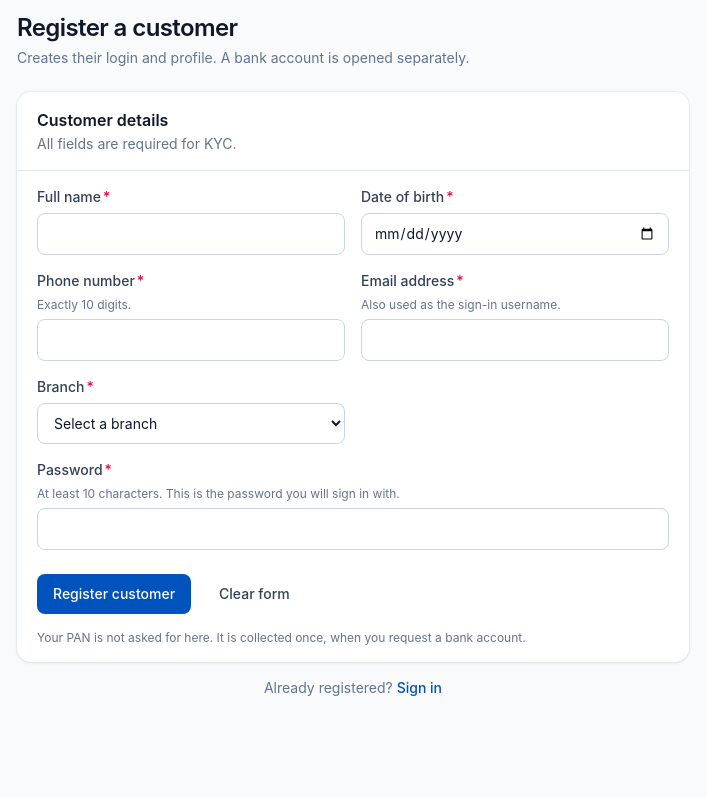
Test: RegisterPage › shows a violation on the profile object itself, which has no input
In the field labelled "Full name*": (191, 234) [37,213,345,255], type "Asha Rao"
In the date field labelled "Date of birth*": (515, 234) [361,213,669,255], type "1994-03-21"
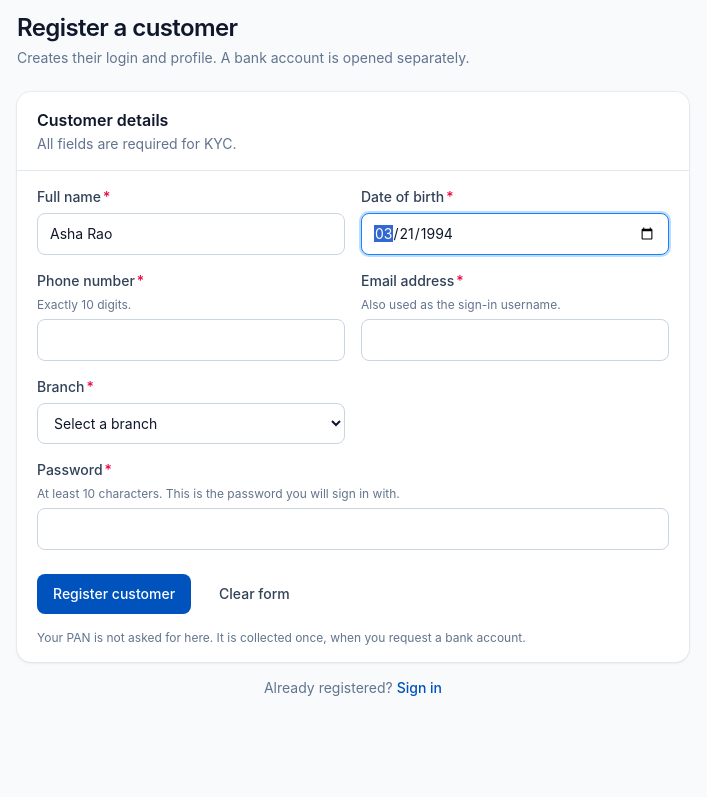
In the field labelled "Phone number*": (191, 340) [37,319,345,361], type "9876543210"
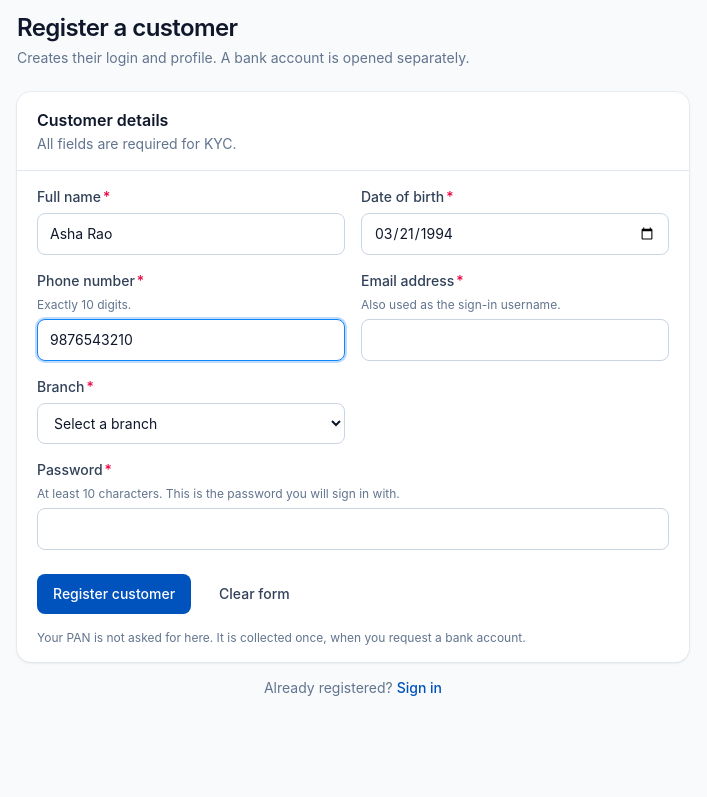
In the field labelled "Email address*": (515, 340) [361,319,669,361], type "asha.rao@example.com"
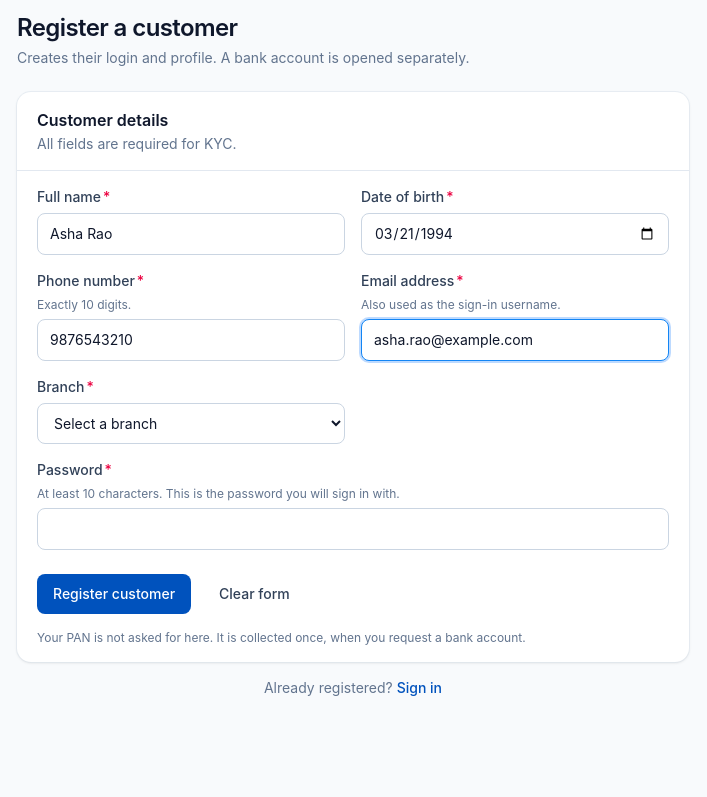
Select "101 - Main Street" in the dropdown labelled "Branch*": (191, 424) [37,403,345,444]
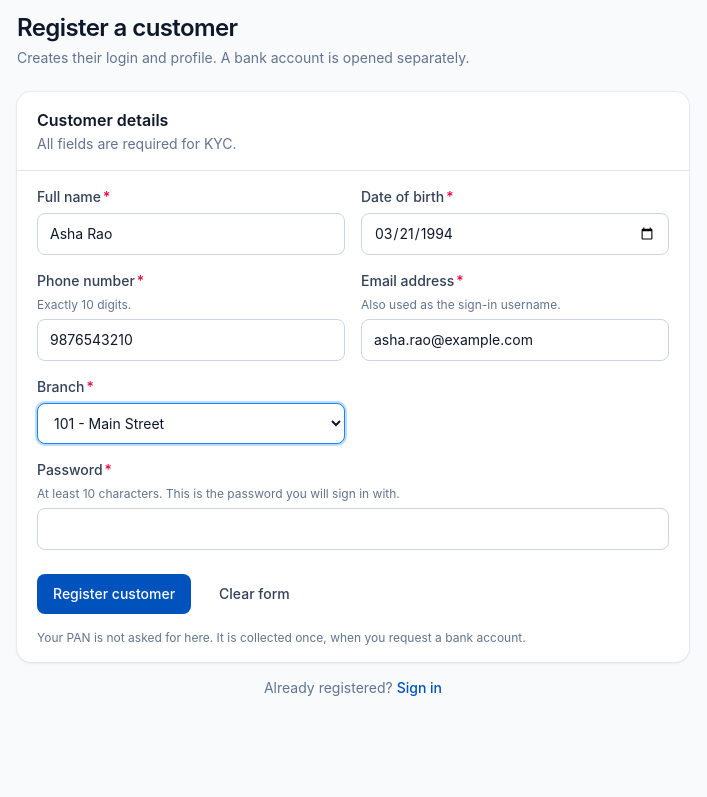
In the password field labelled "Password*": (353, 529) [37,508,669,550], type "correct-horse-battery"
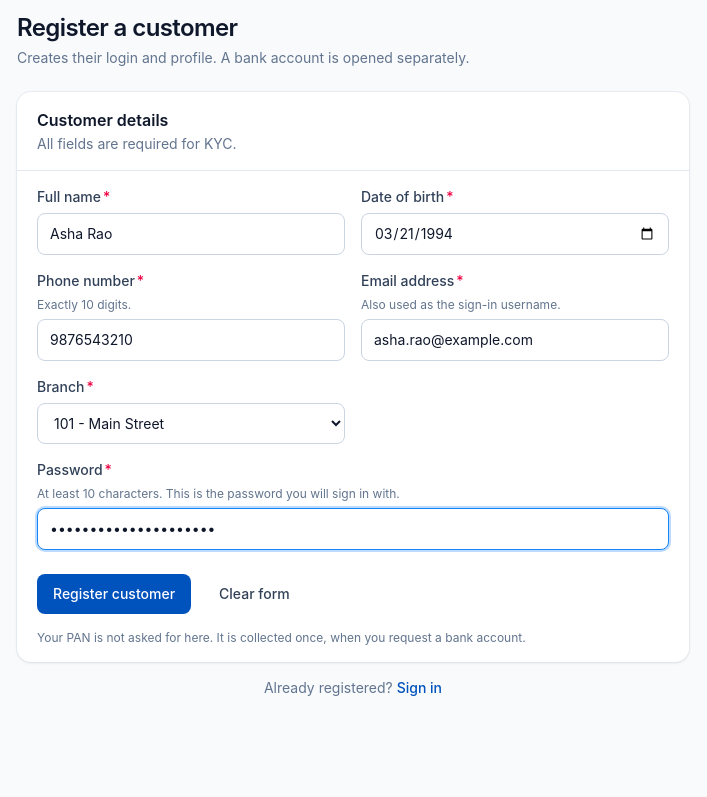
Click the button "Register customer": (114, 594) [37,574,191,614]
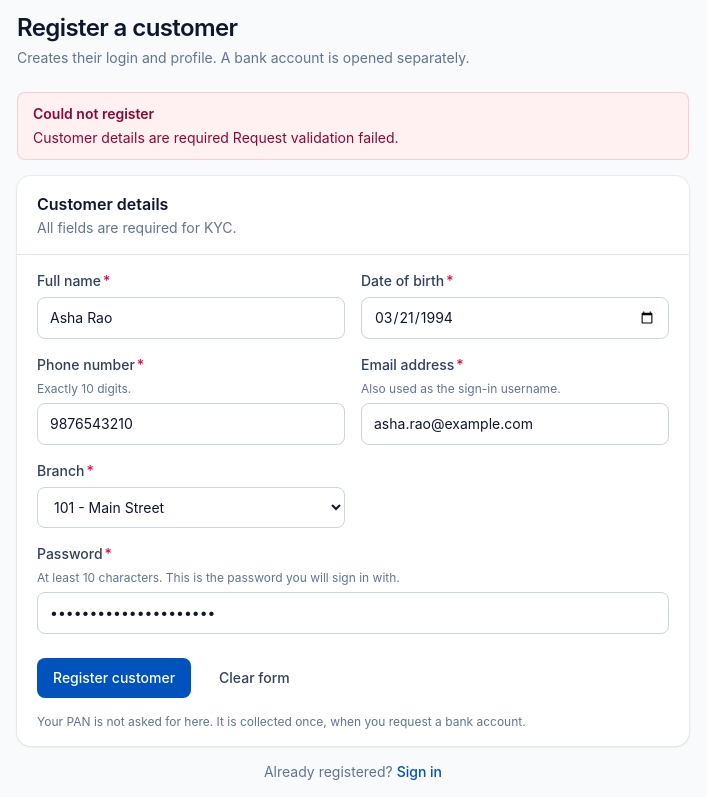
Result: the text "Customer details are required Request validation failed." is shown at [33,129,399,146]
